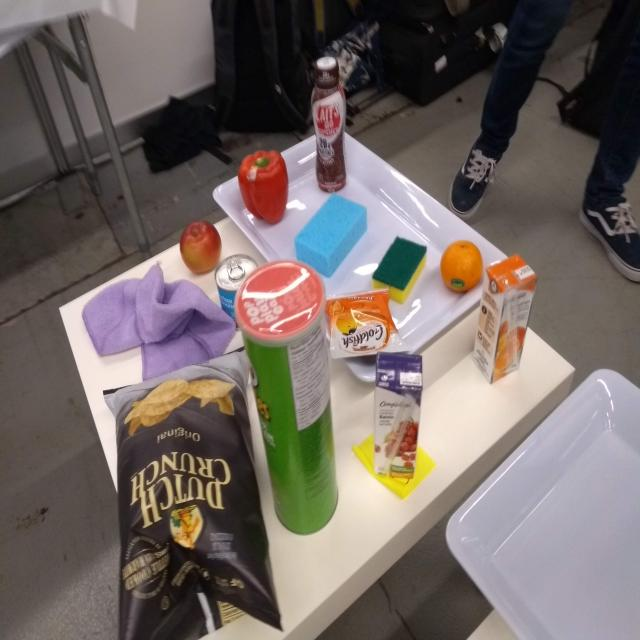apple: (178, 218, 224, 276)
chocolate_drink: (306, 53, 355, 195)
crackers: (322, 290, 408, 365)
grape_juice: (367, 347, 428, 482)
orange: (439, 237, 486, 297)
orange_juice: (468, 250, 540, 391)
paprika: (236, 145, 292, 228)
potato_chips: (98, 343, 285, 640)
pringles: (230, 254, 341, 540)
scrubby: (370, 234, 429, 304)
sponge_opl: (293, 193, 370, 283)
